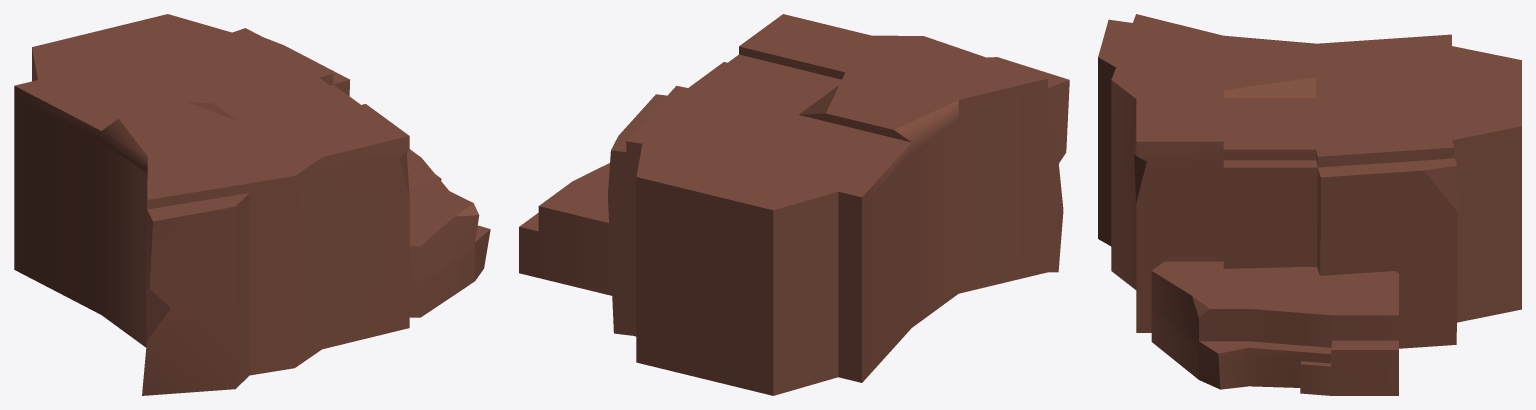
3 views of the same model, side by side, from view 1: azimuth 30°, elevation 25°; view 2: azimuth 150°, elevation 25°; view 3: azimuth 270°, elevation 25° (orthographic).
Visible parts, largest first — view 1: pCube2, pCube3, pCube1; view 2: pCube2, pCube1, pCube3; view 3: pCube2, pCube1, pCube3.
Boxes of the visible parts, box(x1,y1,x2,y2) form: pCube2: box(14, 14, 409, 375); pCube3: box(142, 193, 249, 395); pCube1: box(407, 149, 490, 317); pCube2: box(608, 14, 1047, 395); pCube1: box(519, 163, 612, 295); pCube3: box(987, 57, 1069, 272); pCube2: box(1111, 14, 1521, 348); pCube1: box(1151, 261, 1398, 395); pCube3: box(1098, 19, 1132, 246).
Bounding box in the file's own units: 4318 × 2141 × 3977.
